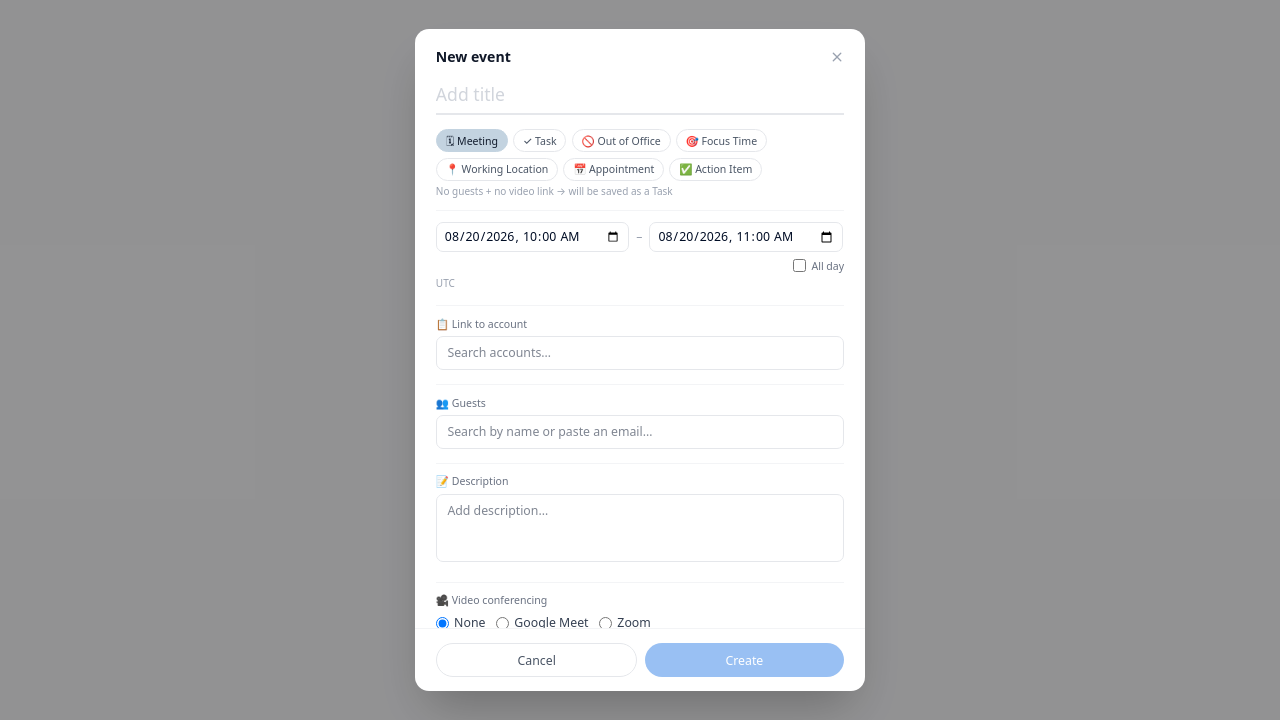
Test: CreateEventModal — account picker result list is not truncated › shows all accounts on focus when the user has more than 8 accounts
The width and height of the screenshot is (1280, 720).
Focus the field with placeholder "Search accounts…": {"x": 640, "y": 353} x1=436 y1=336 x2=844 y2=370
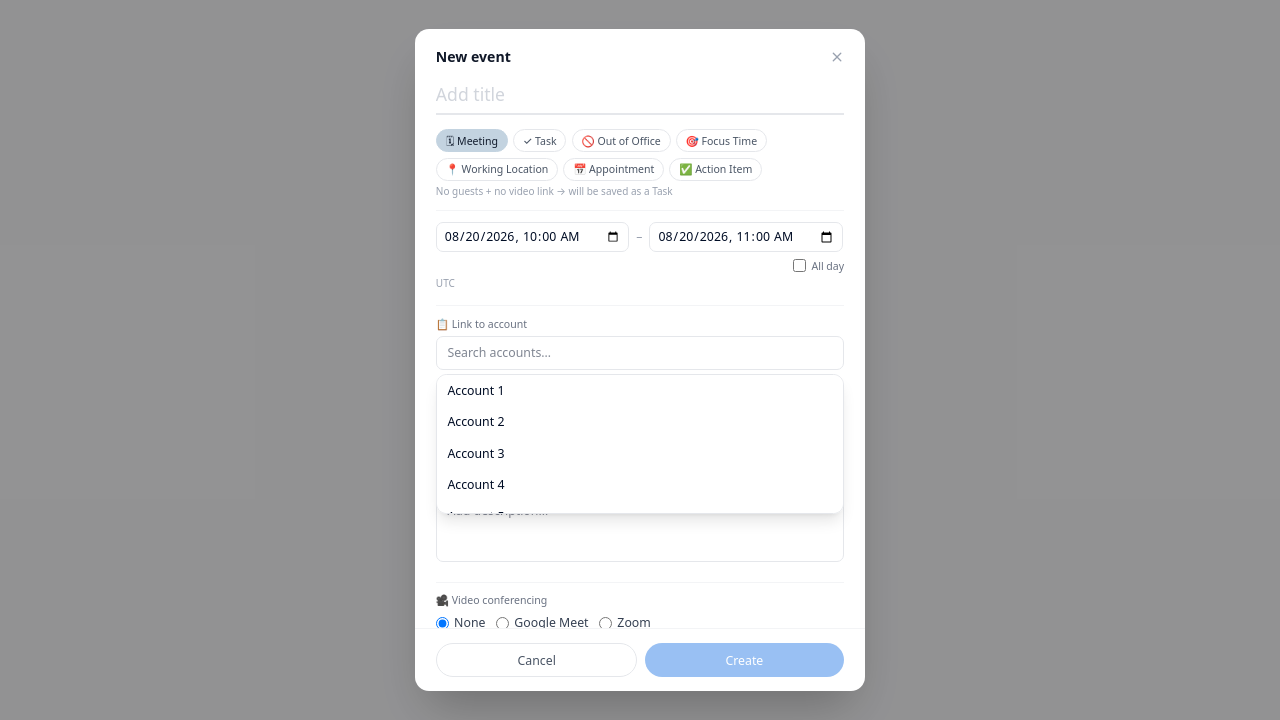
Now the number of buttons "Account 1" is 12
